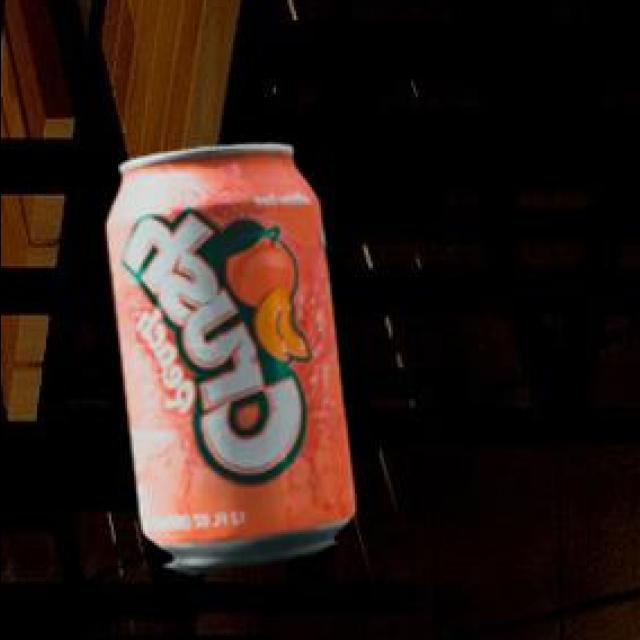logam: (103, 141, 350, 571)
